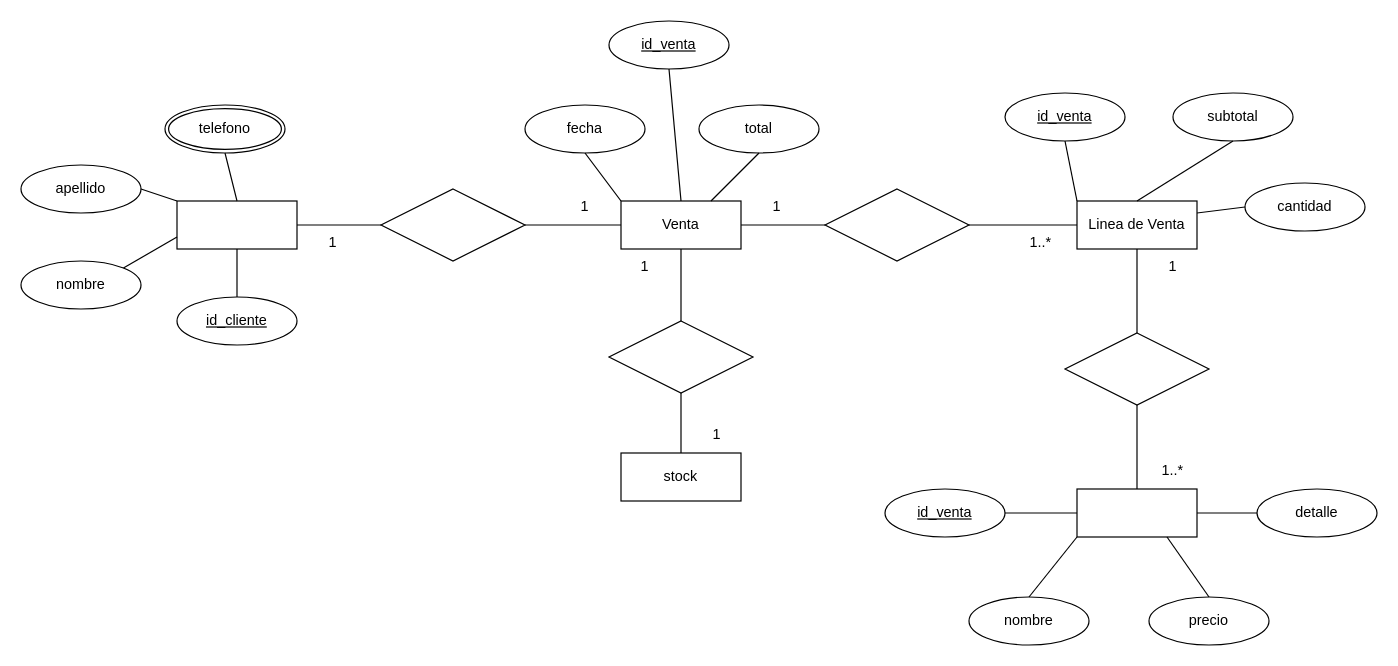
Some shapes in this 1398 by 666 pixel diagram are drawn without their labels. The shapes that lost their labels are listed below. From the top down, each one's box as (x1, y1, x2, y2) in pixels, then its label:
(176, 200, 297, 249): Cliente
(380, 188, 525, 261): Realiza
(824, 188, 969, 261): Tiene
(608, 320, 753, 393): actualiza
(1064, 332, 1209, 405): Formado por
(1076, 488, 1197, 537): Producto
